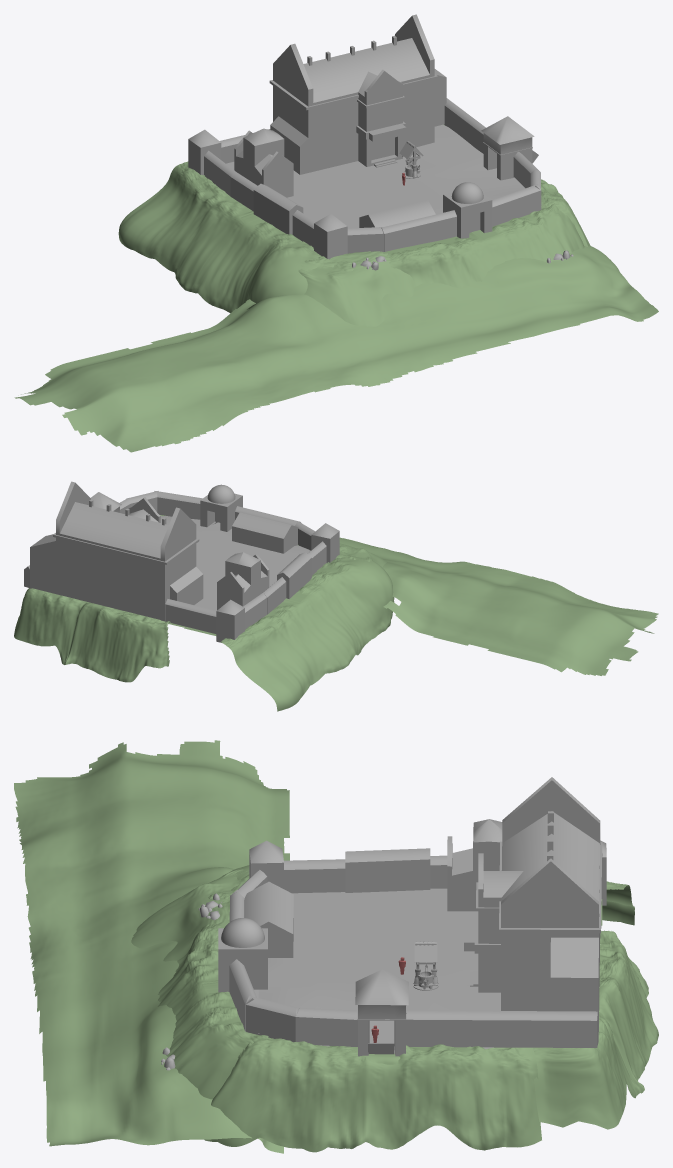
3 renders of one model, top to bottom at view 1: azimuth 30°, elevation 25°; view 2: azimuth 150°, elevation 25°; view 3: azimuth 270°, elevation 25°, orthographic. The views are drawn at different scales.
Parts seen in each view (by area): view 1: pPlane74, polySurface7795, polySurface7885, polySurface7896, polySurface7727, polySurface7728, polySurface7886, polySurface7904, polySurface7897, polySurface7880, polySurface7900, polySurface7901 (+10 smaller); view 2: pPlane74, polySurface7885, polySurface7795, pPlane37, polySurface7896, polySurface7904, pCube452, polySurface7884, polySurface7883, pCube60, polySurface7880, polySurface7901 (+9 smaller); view 3: pPlane74, polySurface7793, polySurface7885, polySurface7896, pPlane37, polySurface7727, polySurface7903, polySurface7728, polySurface7886, polySurface7880, polySurface7897, polySurface7904 (+11 smaller).
Part boxes in pixels (<box>): pPlane74: <box>14,245,658,452</box>; polySurface7795: <box>118,161,358,312</box>; polySurface7885: <box>269,14,446,174</box>; polySurface7896: <box>226,124,541,228</box>; polySurface7727: <box>386,201,584,287</box>; polySurface7728: <box>298,251,414,326</box>; polySurface7886: <box>356,69,406,166</box>; polySurface7904: <box>234,128,293,197</box>; polySurface7897: <box>481,116,534,180</box>; polySurface7880: <box>253,183,303,234</box>; polySurface7900: <box>410,210,480,245</box>; polySurface7901: <box>492,184,541,226</box>; pPlane74: <box>339,537,658,675</box>; polySurface7885: <box>30,481,203,620</box>; polySurface7795: <box>220,545,394,711</box>; pPlane37: <box>14,588,170,682</box>; polySurface7896: <box>160,515,310,610</box>; polySurface7904: <box>217,552,269,610</box>; pCube452: <box>232,512,298,553</box>; polySurface7884: <box>161,599,216,633</box>; polySurface7883: <box>216,599,244,642</box>; pCube60: <box>200,493,242,531</box>; polySurface7880: <box>277,552,311,598</box>; polySurface7901: <box>154,491,202,519</box>; pPlane74: <box>14,740,289,1153</box>; polySurface7793: <box>204,1035,541,1152</box>; polySurface7885: <box>499,777,602,1041</box>; polySurface7896: <box>254,888,500,1053</box>; pPlane37: <box>533,930,658,1129</box>; polySurface7727: <box>158,922,258,1099</box>; polySurface7903: <box>406,1010,598,1047</box>; polySurface7728: <box>131,869,249,961</box>; polySurface7886: <box>464,853,523,992</box>; polySurface7880: <box>345,848,430,892</box>; polySurface7897: <box>355,969,408,1056</box>; polySurface7904: <box>447,819,502,911</box>.
Bounding box in the file's own units: 96.49 × 28.38 × 65.65.
